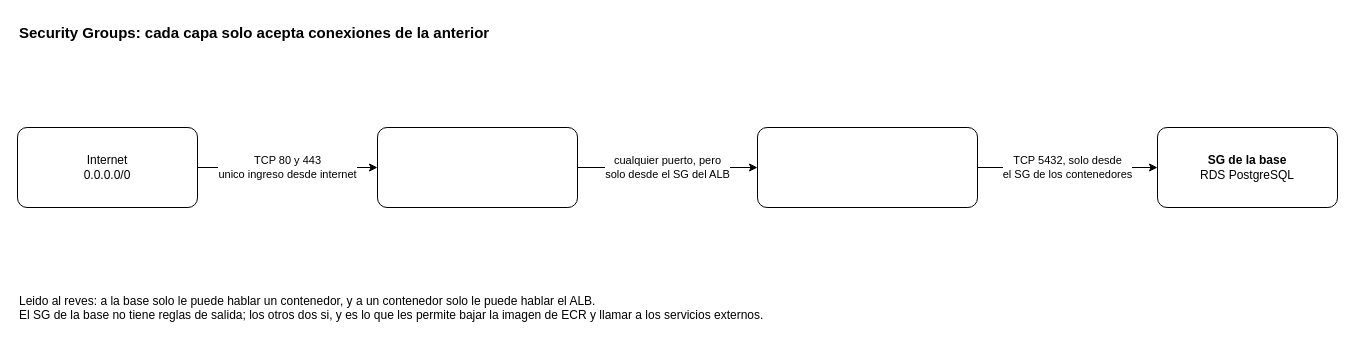
The diagram is 1355 pixels wide and 364 high, and some of its shapes have lost their labels. Each missing label, with the box of its shape:
SG de los contenedores frontend y backend: (756, 126, 978, 208)
SG del ALB balanceador: (376, 126, 578, 208)
